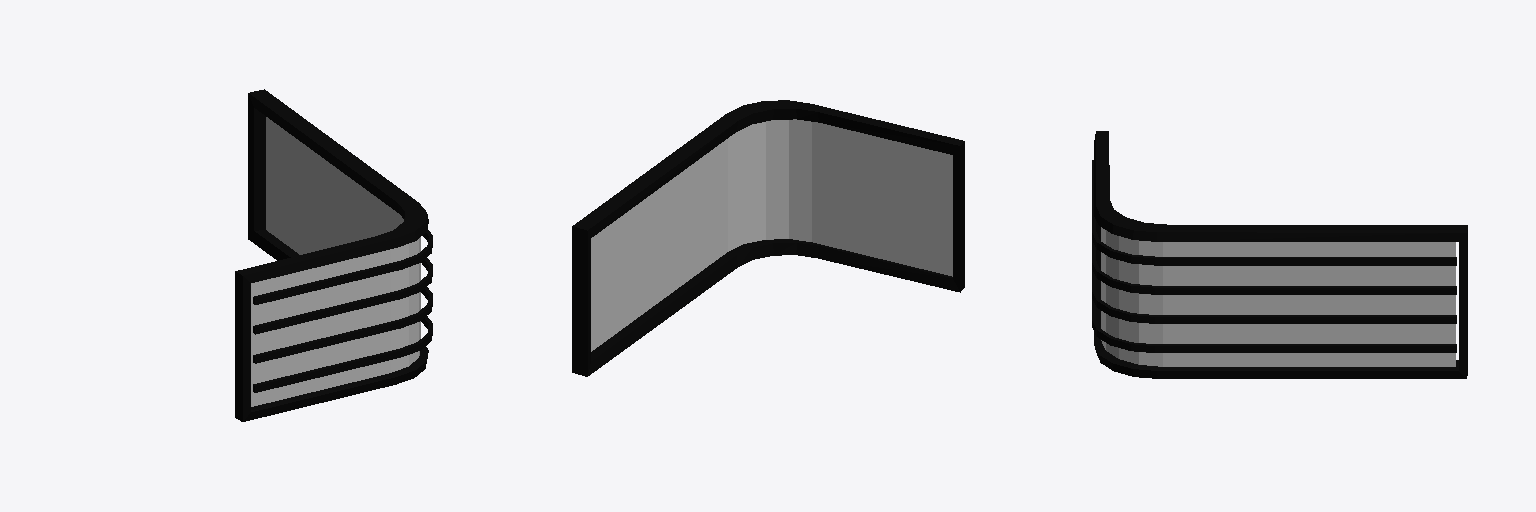
The model's file is Sign_Corner_3_Fenced.obj.
3 renders of one model, left to right at view 1: azimuth 30°, elevation 25°; view 2: azimuth 150°, elevation 25°; view 3: azimuth 270°, elevation 25°, orthographic.
Parts seen in each view (by area): view 1: Sign_Corner_3_Fenced_Plane.011; view 2: Sign_Corner_3_Fenced_Plane.011; view 3: Sign_Corner_3_Fenced_Plane.011.
Boxes of the visible parts, x1=… form: Sign_Corner_3_Fenced_Plane.011: x1=235, y1=89, x2=432, y2=421; Sign_Corner_3_Fenced_Plane.011: x1=572, y1=100, x2=964, y2=376; Sign_Corner_3_Fenced_Plane.011: x1=1092, y1=131, x2=1467, y2=378.
Size of the model in its own units: 1.11 by 0.7269 by 1.69.